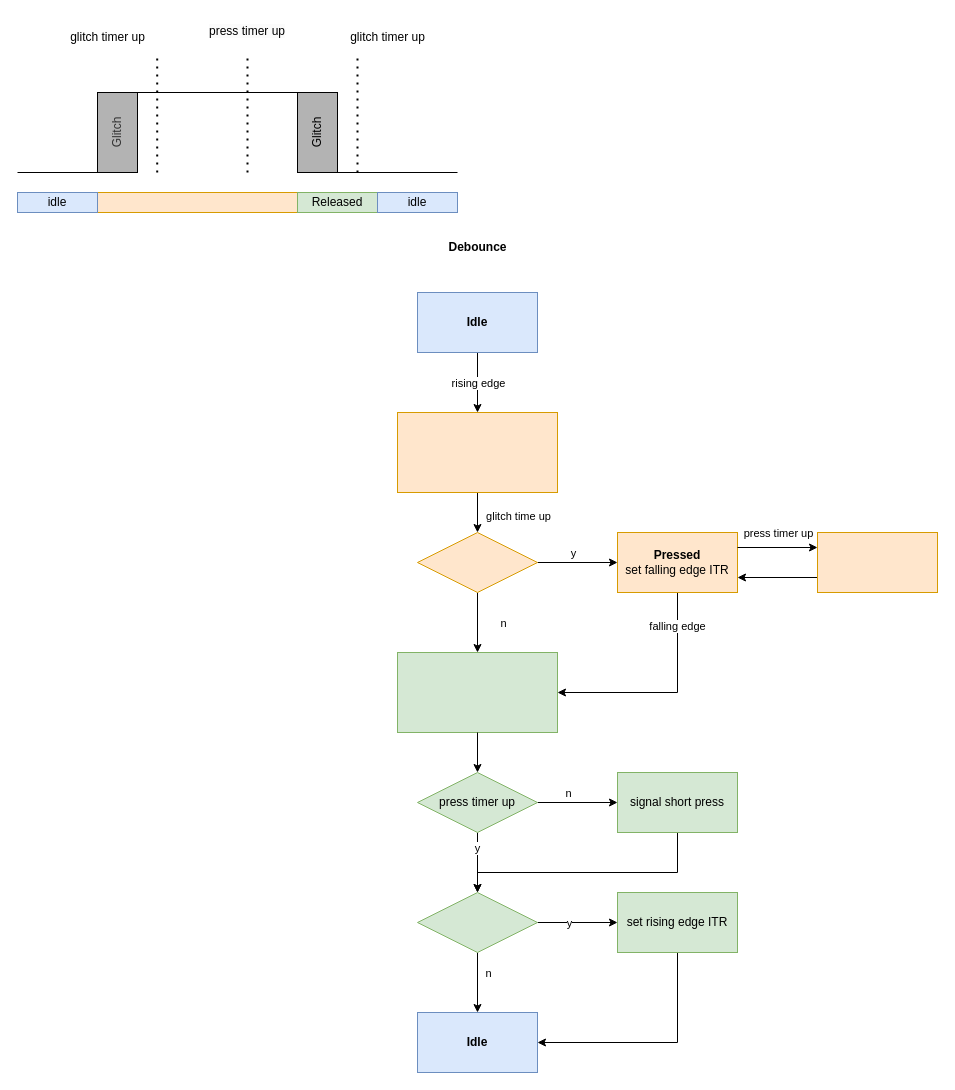
The diagram is 955 pixels wide and 1090 high, and some of its shapes have lost their labels. Each missing label, with the box of its shape:
pin state is HIGH: (416, 532, 538, 592)
pin state is LOW: (416, 892, 538, 952)
Pressed: (96, 192, 298, 212)
Pressed 1. disable ISR 2. start glitch timer 3. start press timer: (396, 412, 558, 492)
Released 1. disable ISR 2. stop press timer 3. start glitch timer: (396, 652, 558, 732)
signal long press: (816, 532, 938, 592)
